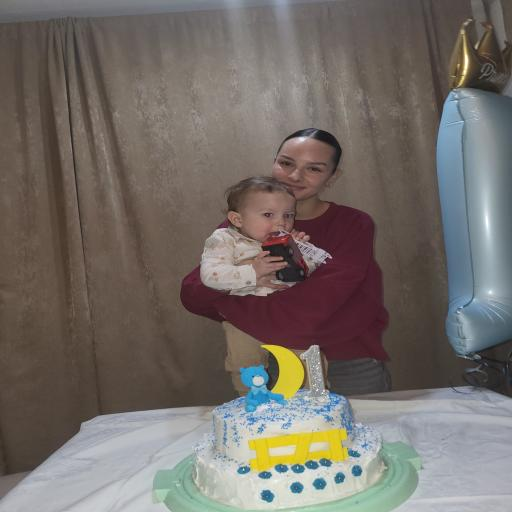marija: (275, 137, 338, 200)
